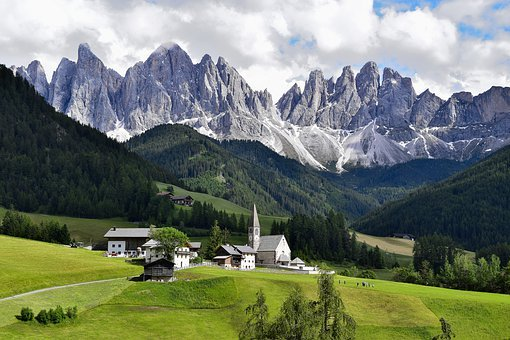field: (10, 240, 510, 339)
house: (112, 211, 320, 278)
mountain: (11, 73, 510, 238), (68, 44, 510, 148)
sky: (1, 4, 510, 84)
